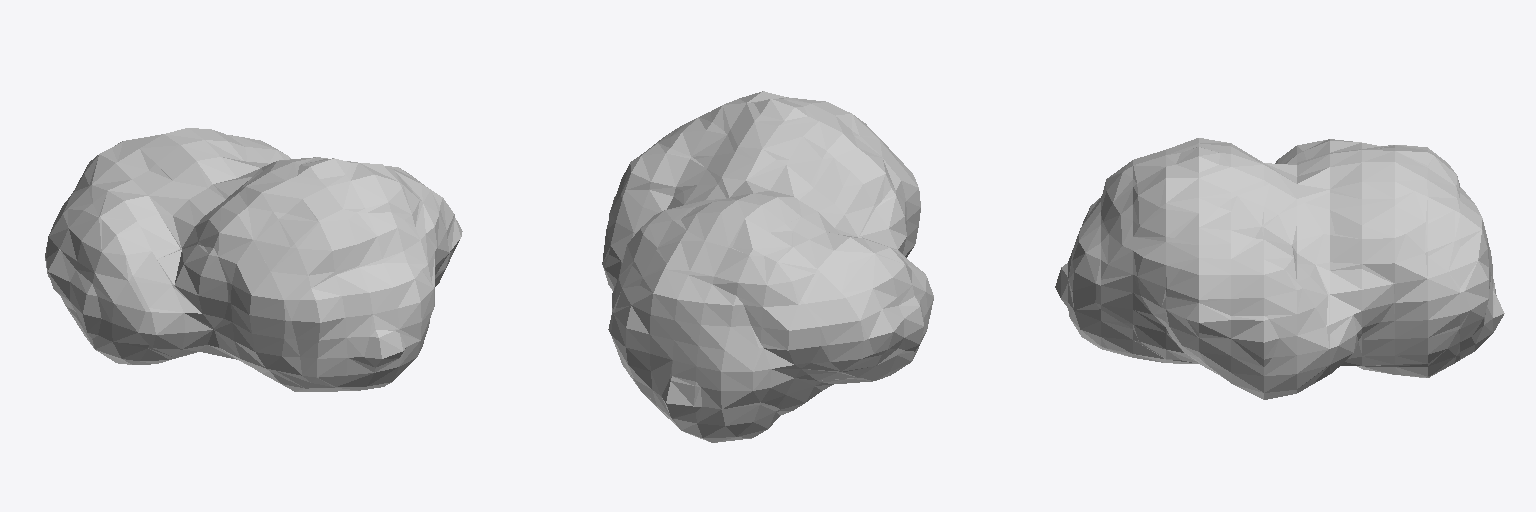
Rendered from 1s9r_cms.obj.
The picture shows the model from 3 angles: view 1: azimuth 30°, elevation 25°; view 2: azimuth 150°, elevation 25°; view 3: azimuth 270°, elevation 25°; orthographic projection.
Bounding box in the file's own units: 92.94 × 62.87 × 108.